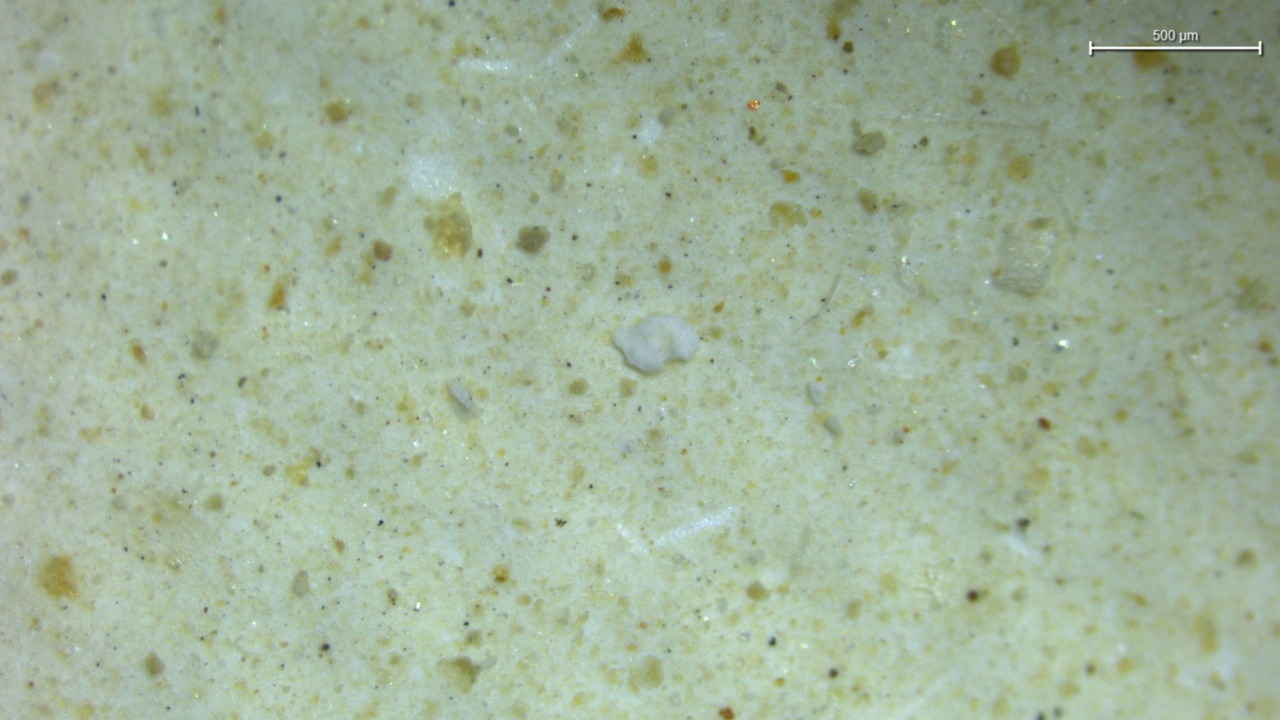microplastic_fragment: (613, 315, 700, 373), (994, 217, 1057, 295), (448, 379, 475, 414)
